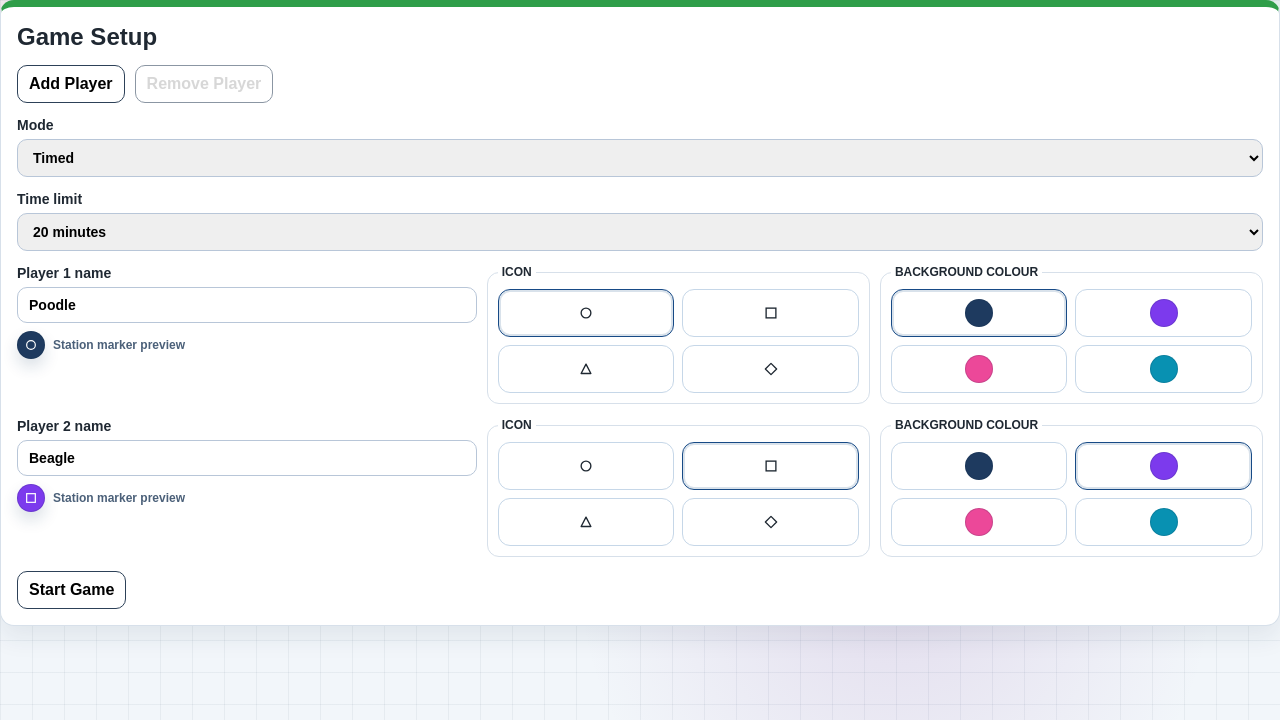
Test case: SetupScreen › shows a visible error when two players choose the same icon and background colour
Click the radio button named "Player 2 icon Circle" at (586, 466), box [498,442,674,490]
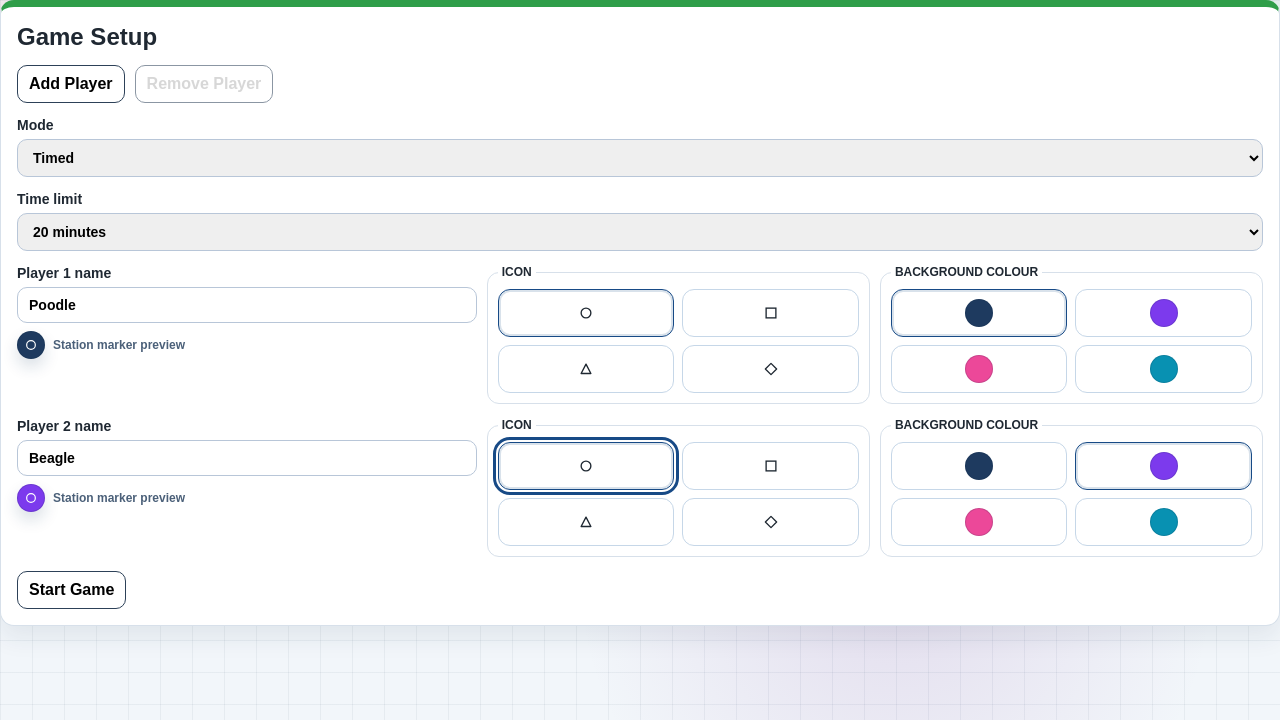
Click the radio button named "Player 2 background colour Navy" at (979, 466), box [891,442,1068,490]
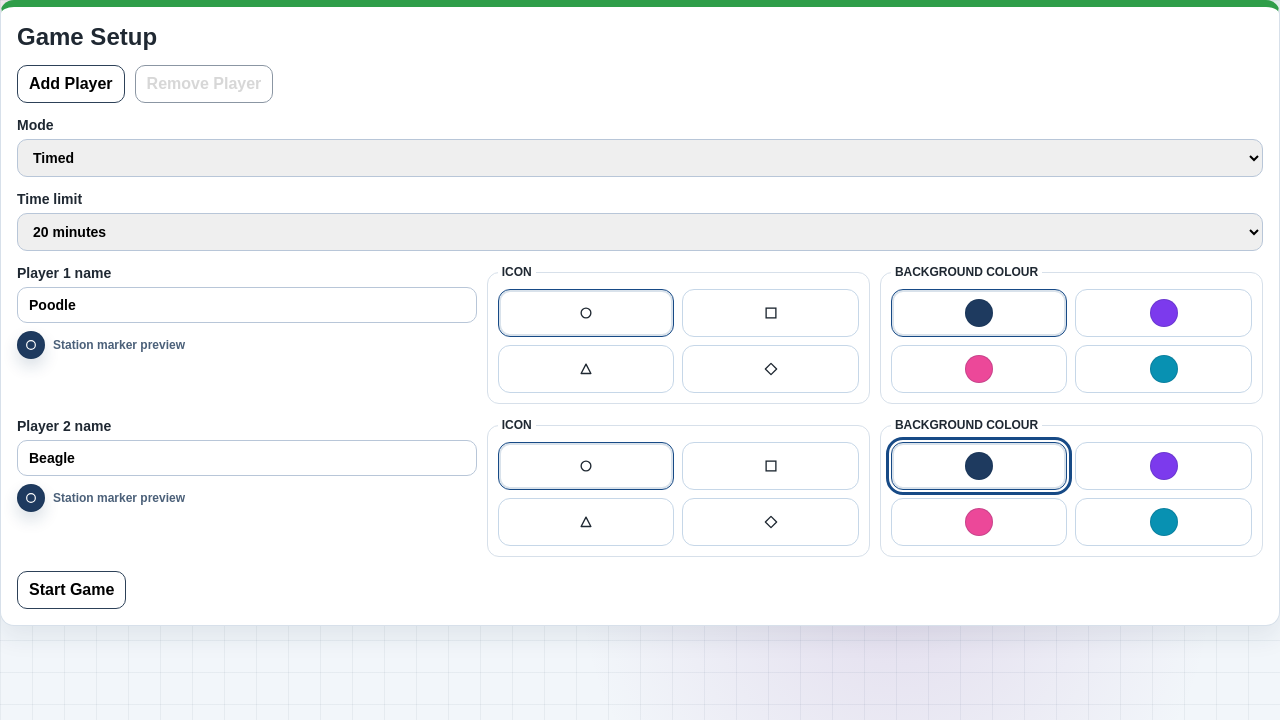
Click the button "Start Game" at (72, 590), box [17,571,126,609]
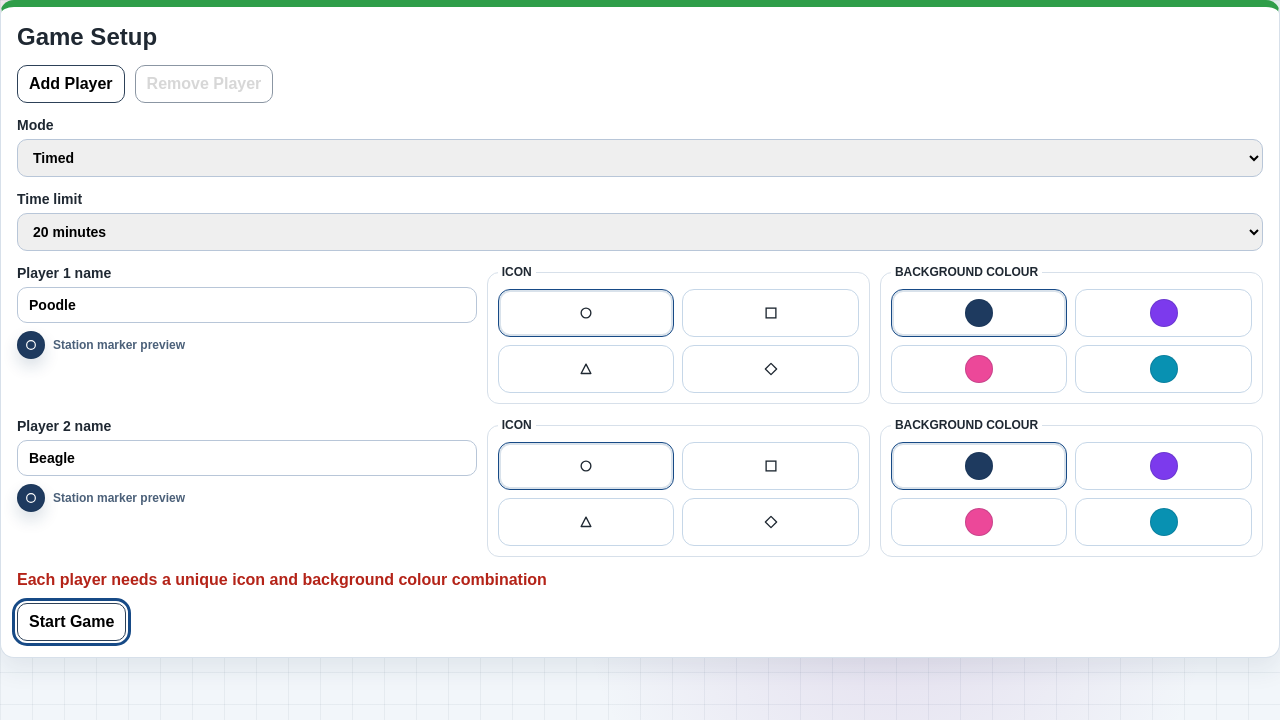
Check: the text "Each player needs a unique icon and background colour combination" is shown, box [17,571,547,588]
